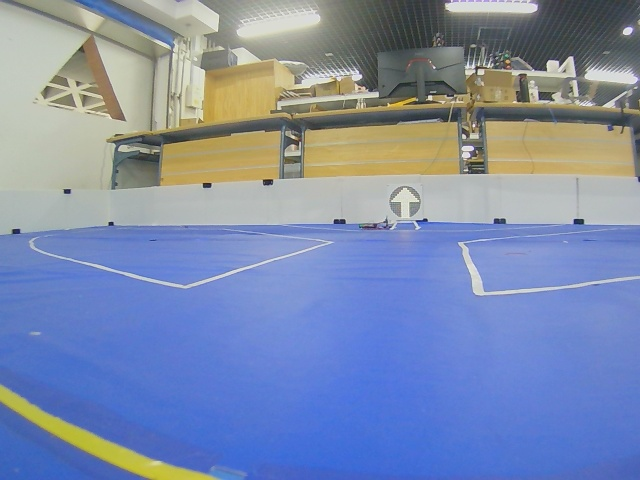straight_yellow: (389, 183, 420, 221)
